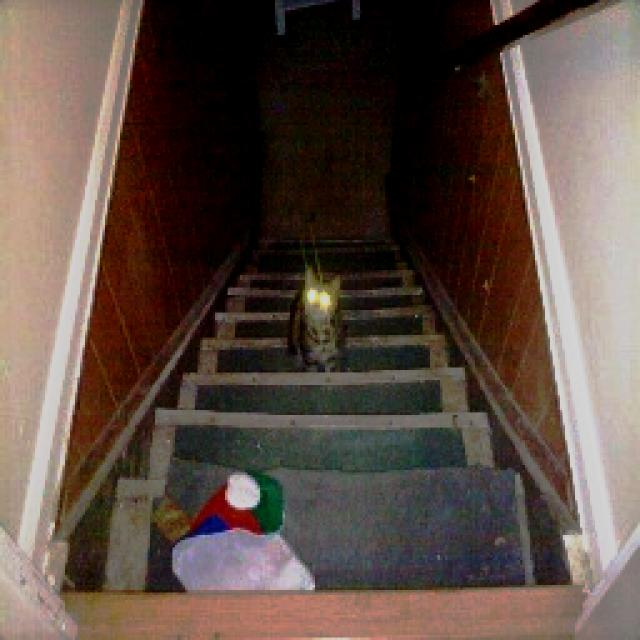cat: (285, 266, 356, 376)
